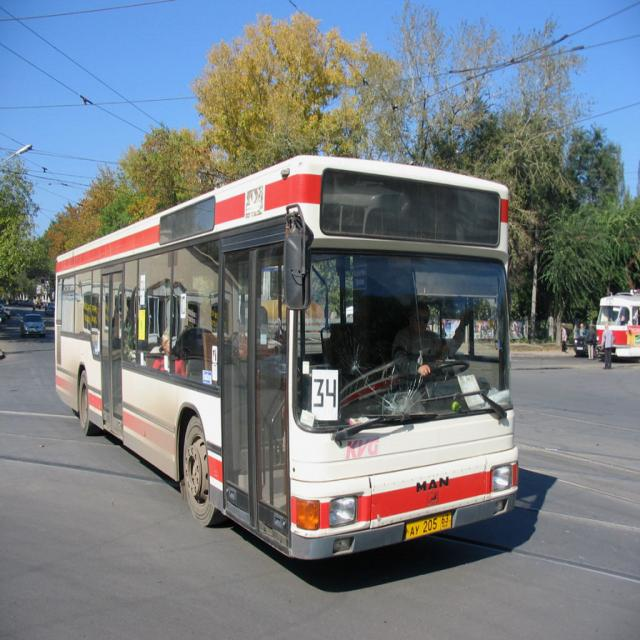number-of-bus: (313, 371, 340, 421)
